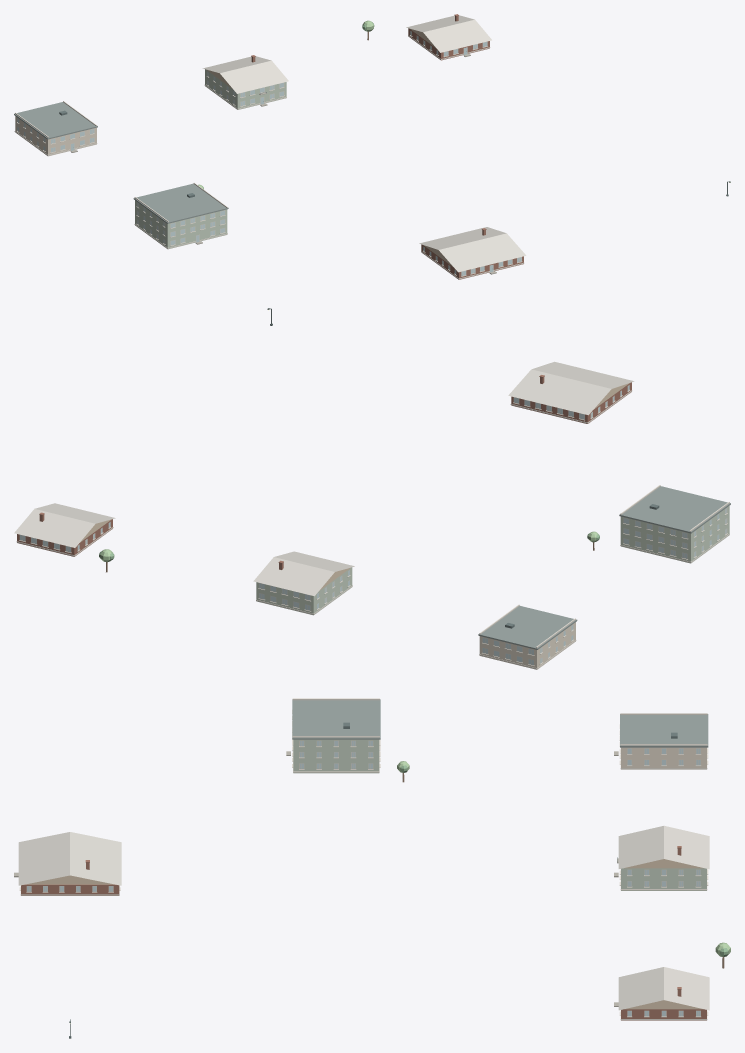
Rendered from chunk_1_1_high.glb.
3 renders of one model, top to bottom at view 1: azimuth 30°, elevation 25°; view 2: azimuth 150°, elevation 25°; view 3: azimuth 270°, elevation 25°, orthographic. The views are drawn at different scales.
Parts seen in each view (by area): view 1: city_roof_tile, city_roof_slate, city_wall_sage, city_trim, city_glass, city_world_brick, city_wall_cream; view 2: city_roof_tile, city_roof_slate, city_wall_sage, city_trim, city_glass, city_world_brick, city_wall_cream; view 3: city_roof_tile, city_roof_slate, city_wall_sage, city_trim, city_world_brick, city_wall_cream, city_wall_sand, city_glass.
Part boxes in pixels (bbox=[...]): city_roof_tile: bbox=[202, 15, 526, 272]; city_roof_slate: bbox=[14, 102, 228, 223]; city_wall_sage: bbox=[135, 69, 286, 249]; city_trim: bbox=[14, 31, 524, 279]; city_glass: bbox=[17, 31, 521, 275]; city_world_brick: bbox=[251, 14, 523, 279]; city_wall_cream: bbox=[15, 116, 96, 156]; city_roof_tile: bbox=[14, 361, 634, 596]; city_roof_slate: bbox=[478, 486, 730, 649]; city_wall_sage: bbox=[256, 506, 729, 615]; city_trim: bbox=[16, 385, 729, 669]; city_glass: bbox=[20, 385, 726, 664]; city_world_brick: bbox=[17, 375, 631, 569]; city_wall_cream: bbox=[479, 622, 575, 669]; city_roof_tile: bbox=[18, 825, 709, 1010]; city_roof_slate: bbox=[292, 699, 708, 747]; city_wall_sage: bbox=[293, 739, 706, 890]; city_trim: bbox=[19, 698, 708, 1020]; city_world_brick: bbox=[21, 846, 706, 1020]; city_wall_cream: bbox=[621, 747, 706, 769]; city_wall_sand: bbox=[25, 859, 703, 1009]; city_glass: bbox=[27, 741, 700, 1016].
Size of what is drawn, in the model's own units: 177 by 10.4 by 175.
